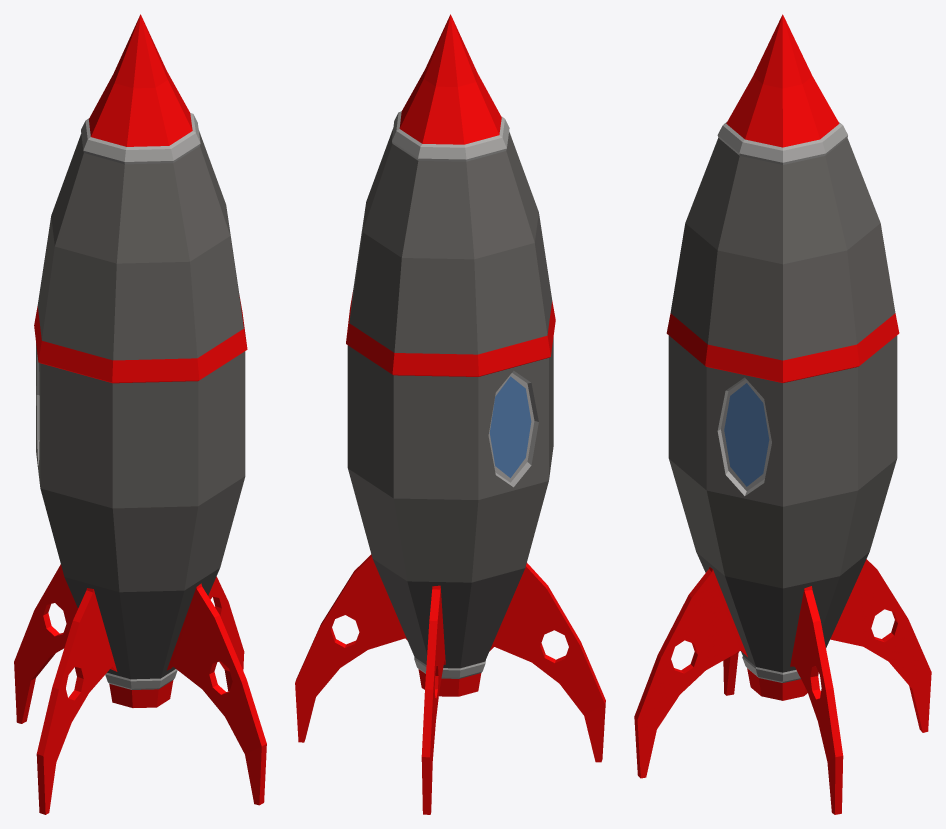
File: Object_Rocket.fbx
3 views of the same model, side by side, from view 1: azimuth 30°, elevation 25°; view 2: azimuth 150°, elevation 25°; view 3: azimuth 270°, elevation 25° (orthographic).
Parts seen in each view (by area): view 1: Rocket; view 2: Rocket; view 3: Rocket.
Boxes of the visible parts, x1=… form: Rocket: x1=14, y1=14, x2=266, y2=814; Rocket: x1=295, y1=14, x2=605, y2=814; Rocket: x1=634, y1=14, x2=931, y2=814.
Bounding box in the file's own units: 3 × 8.23 × 3.
